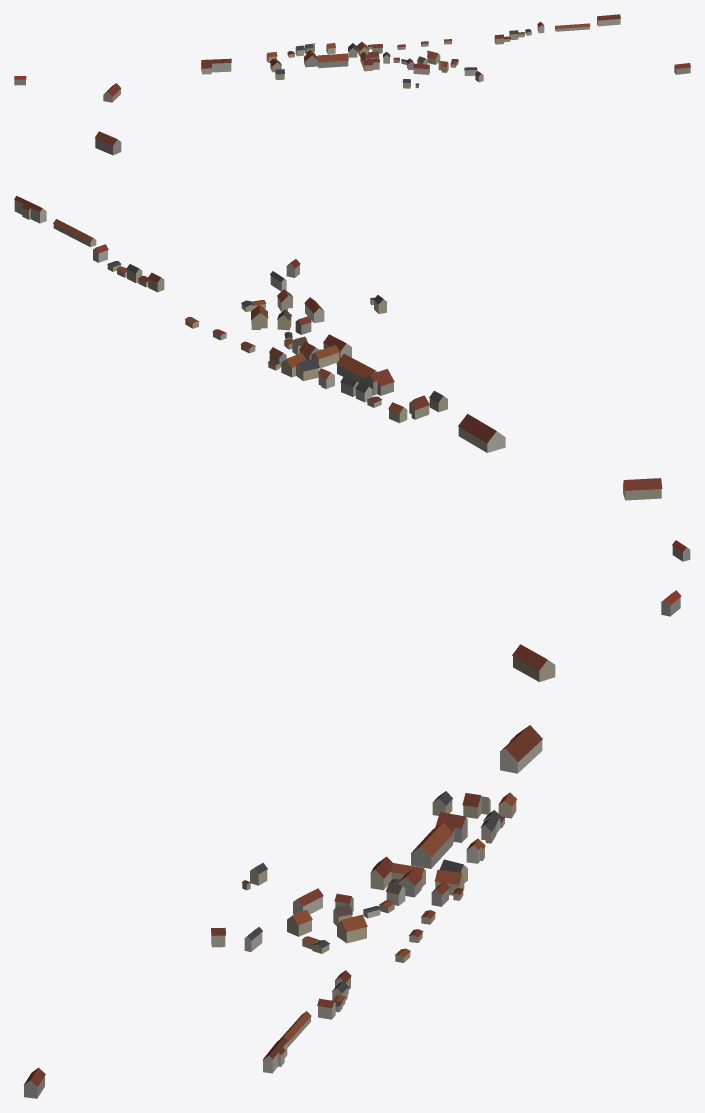
The picture shows the model from 3 angles, top to bottom: view 1: azimuth 30°, elevation 25°; view 2: azimuth 150°, elevation 25°; view 3: azimuth 270°, elevation 25°; orthographic projection. The views are drawn at different scales.
Visible parts, largest first — view 1: buildings; view 2: buildings; view 3: buildings.
Part boxes in pixels (x1,y1,x2,y2): buildings: (14,14,690,102); buildings: (14,131,690,561); buildings: (23,590,681,1098).
Bounding box in the file's own units: 534 × 23.73 × 295.
